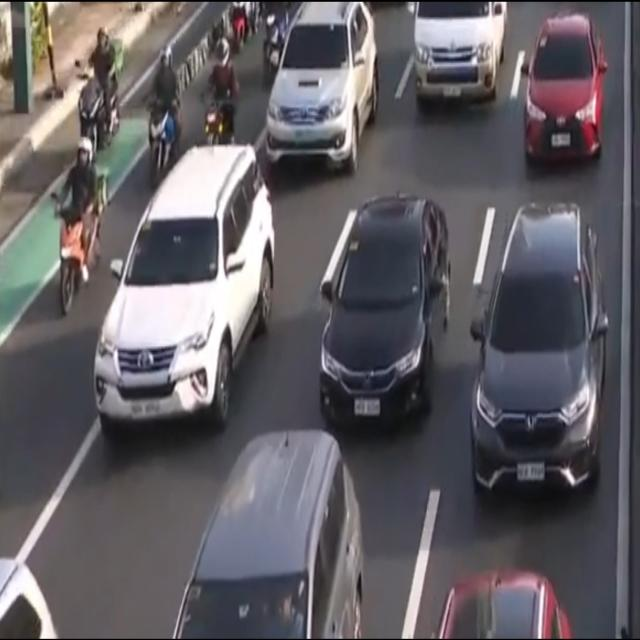Motorcycle: (52, 135, 104, 312), (76, 20, 124, 154), (143, 46, 179, 183), (204, 33, 243, 143)
SUV: (94, 148, 269, 442), (467, 203, 609, 501), (162, 432, 361, 640), (263, 0, 375, 166), (0, 555, 57, 640)
Sedan: (318, 197, 452, 438), (522, 6, 608, 167)
Van: (410, 0, 506, 120)
